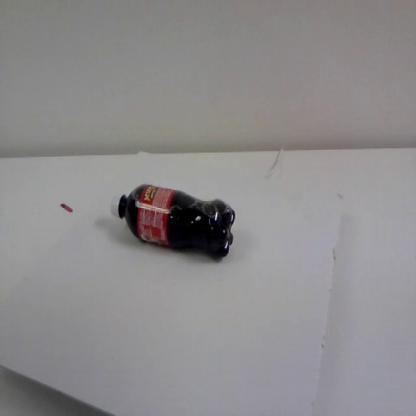bottle: (107, 180, 236, 269)
